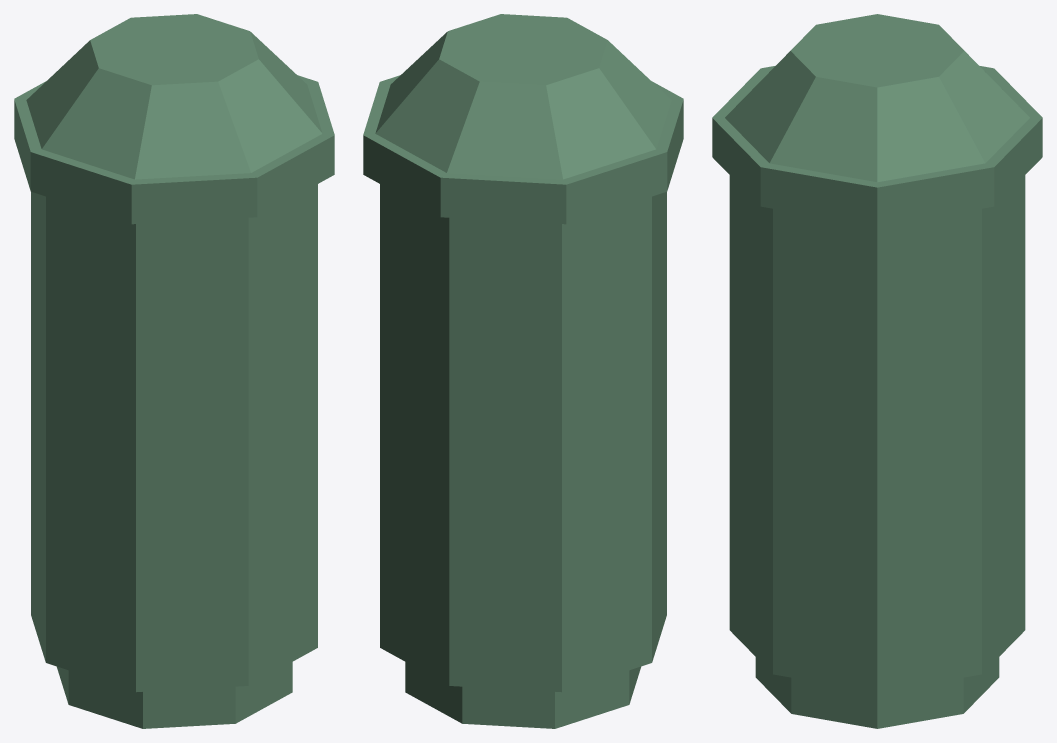
Rendered from trash_bin.glb.
The picture shows the model from 3 angles, left to right: view 1: azimuth 30°, elevation 25°; view 2: azimuth 150°, elevation 25°; view 3: azimuth 270°, elevation 25°; orthographic projection.
Parts seen in each view (by area): view 1: trash_bin; view 2: trash_bin; view 3: trash_bin.
Boxes of the visible parts, <box> form: trash_bin: <box>14,14,334,728</box>; trash_bin: <box>363,14,683,728</box>; trash_bin: <box>712,14,1042,728</box>.
Size of the model in its own units: 0.38 by 0.795 by 0.38.
